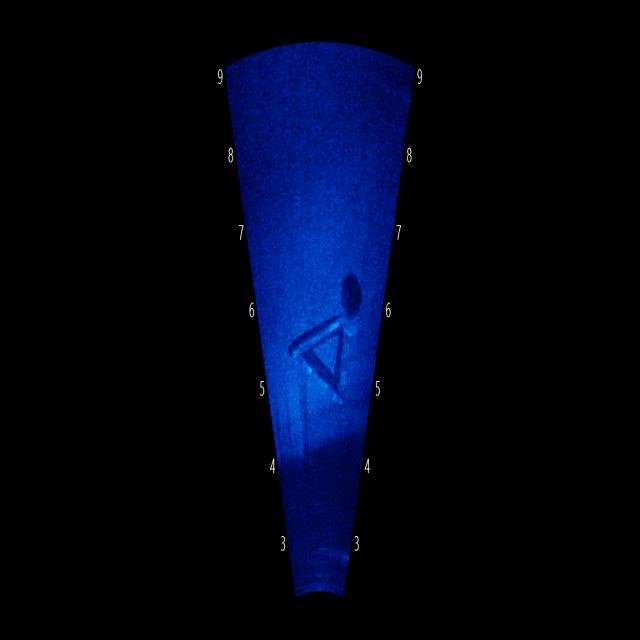triangle: (280, 305, 363, 413)
